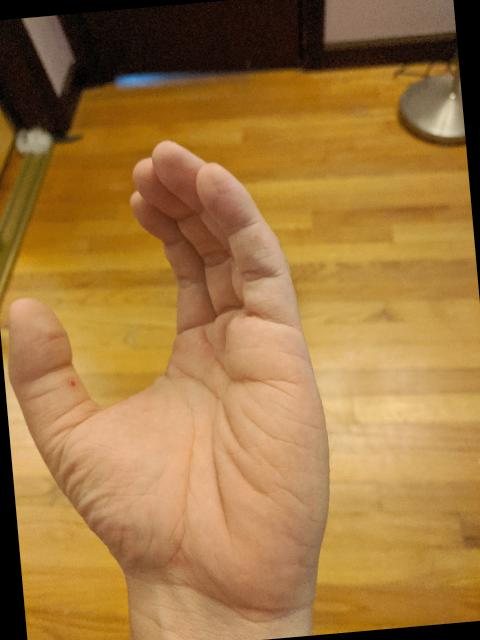C: (0, 121, 353, 640)
